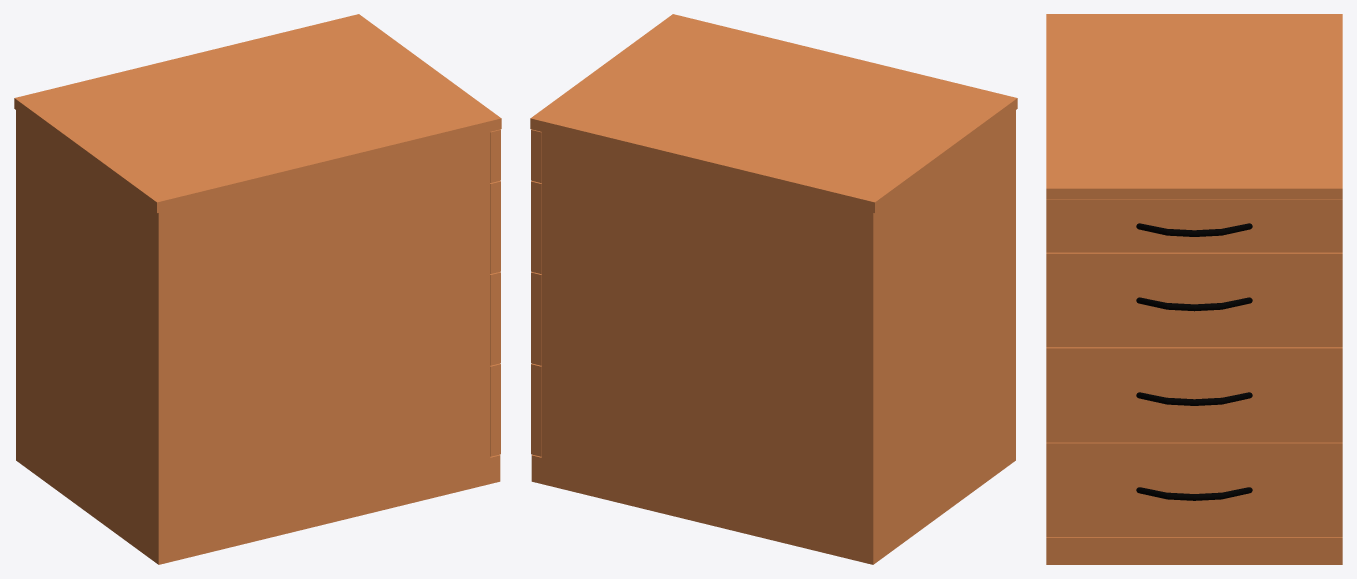
File: driving_cabinet_4d.dae
3 views of the same model, side by side, from view 1: azimuth 30°, elevation 25°; view 2: azimuth 150°, elevation 25°; view 3: azimuth 270°, elevation 25° (orthographic). The views are drawn at different scales.
Parts seen in each view (by area): view 1: Cube; view 2: Cube; view 3: Cube.
Boxes of the visible parts, x1,y1,x2,y2 form: Cube: [14, 14, 501, 564]; Cube: [530, 14, 1017, 564]; Cube: [1046, 14, 1342, 564].
Bounding box in the file's own units: 0.633 × 0.433 × 0.633.
